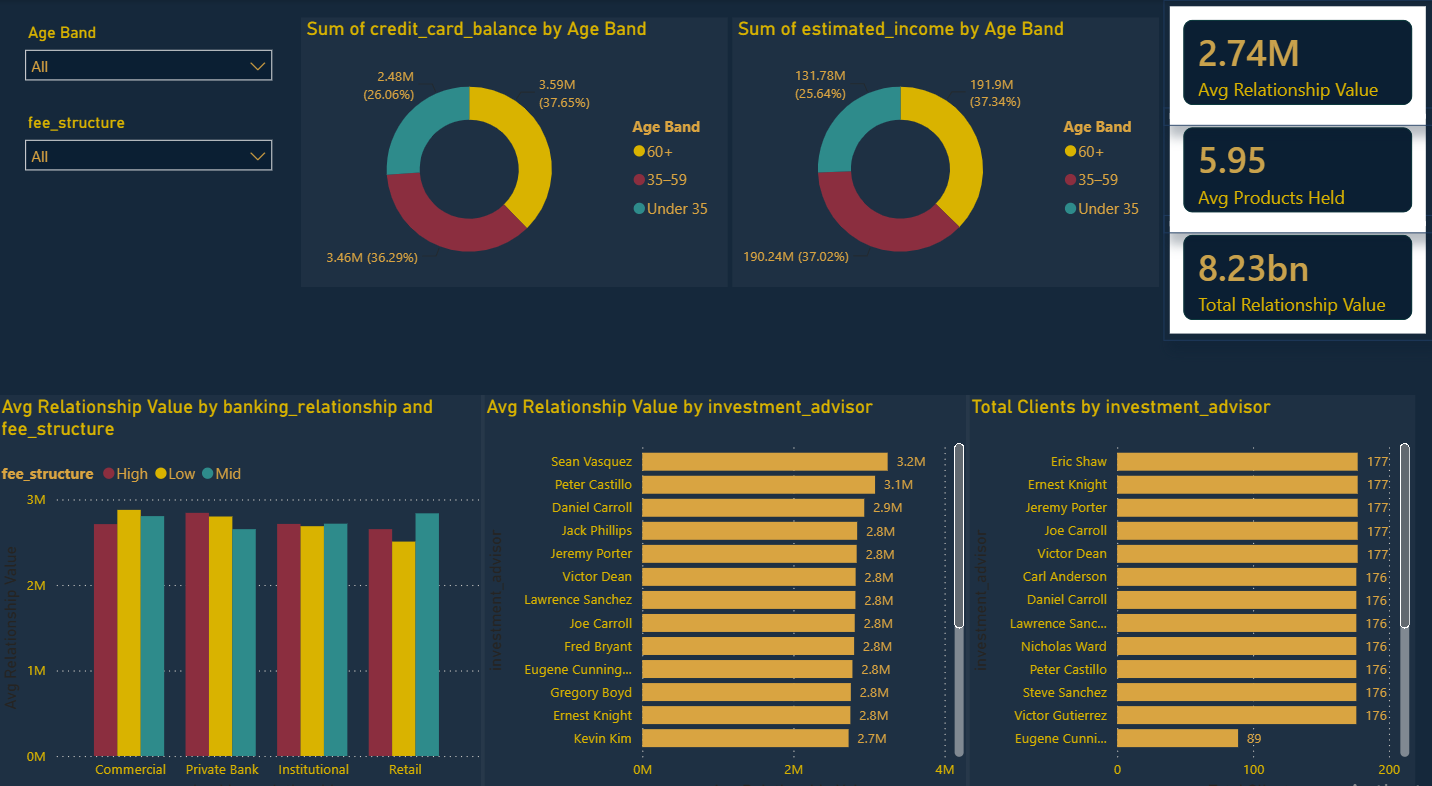

This screenshot's page, from the dashboard's own definition file:
{"tool":"powerbi","page":{"name":"Page 3","canvas":[1280,720],"ordinal":2},"visuals":[{"type":"clusteredColumnChart","fields":{"Category":["banking_clients.banking_relationship"],"Series":["banking_clients.fee_structure"],"Y":["banking_clients.Avg Relationship Value"]},"box":[0,352,435,365],"z":0},{"type":"barChart","fields":{"Category":["banking_clients.investment_advisor"],"Y":["banking_clients.Avg Relationship Value"]},"box":[432,352,435,365],"z":1000},{"type":"barChart","fields":{"Category":["banking_clients.investment_advisor"],"Y":["banking_clients.Total Clients"]},"box":[864,352,400,365],"z":2000},{"type":"cardVisual","fields":{"Data":["banking_clients.Total Relationship Value"]},"box":[1040,192,240,112],"z":3000},{"type":"cardVisual","fields":{"Data":["banking_clients.Avg Products Held"]},"box":[1040,96,240,112],"z":4000},{"type":"cardVisual","fields":{"Data":["banking_clients.Avg Relationship Value"]},"box":[1040,0,240,112],"z":5000},{"type":"donutChart","fields":{"Category":["banking_clients.Age Band"],"Y":["Sum(banking_clients.credit_card_balance)"]},"box":[272,16,380,240],"z":6000},{"type":"donutChart","fields":{"Category":["banking_clients.Age Band"],"Y":["Sum(banking_clients.estimated_income)"]},"box":[656,16,380,240],"z":7000},{"type":"slicer","fields":{"Values":["banking_clients.Age Band"]},"box":[16,16,240,64],"z":8000},{"type":"slicer","fields":{"Values":["banking_clients.fee_structure"]},"box":[16,96,240,64],"z":9000}]}

Visuals, with their boxes in screenshot pixels (x1, y1, x2, y2), scaled from the page's 1280x720 canvas onto the 1432x786 screenshot:
clusteredColumnChart - banking_clients.banking_relationship x banking_clients.fee_structure: 0, 384, 487, 783
barChart - banking_clients.investment_advisor x banking_clients.Avg Relationship Value: 483, 384, 970, 783
barChart - banking_clients.investment_advisor x banking_clients.Total Clients: 967, 384, 1414, 783
cardVisual - banking_clients.Total Relationship Value: 1164, 210, 1431, 332
cardVisual - banking_clients.Avg Products Held: 1164, 105, 1431, 227
cardVisual - banking_clients.Avg Relationship Value: 1164, 0, 1431, 122
donutChart - banking_clients.Age Band x Sum(banking_clients.credit_card_balance): 304, 17, 729, 279
donutChart - banking_clients.Age Band x Sum(banking_clients.estimated_income): 734, 17, 1159, 279
slicer - banking_clients.Age Band: 18, 17, 286, 87
slicer - banking_clients.fee_structure: 18, 105, 286, 175
